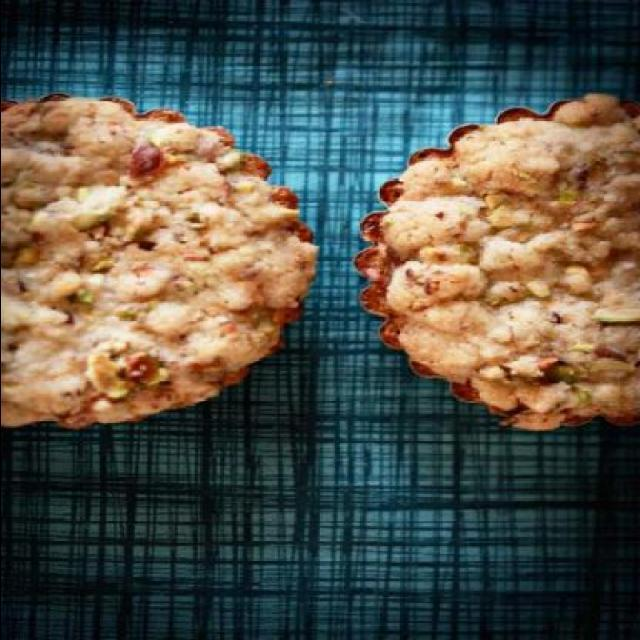Cookie: (1, 89, 324, 432), (356, 97, 639, 434)
